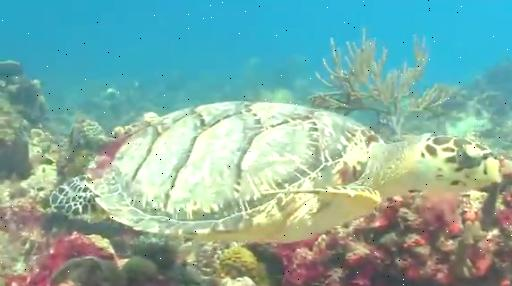Fish: (72, 102, 501, 242)
